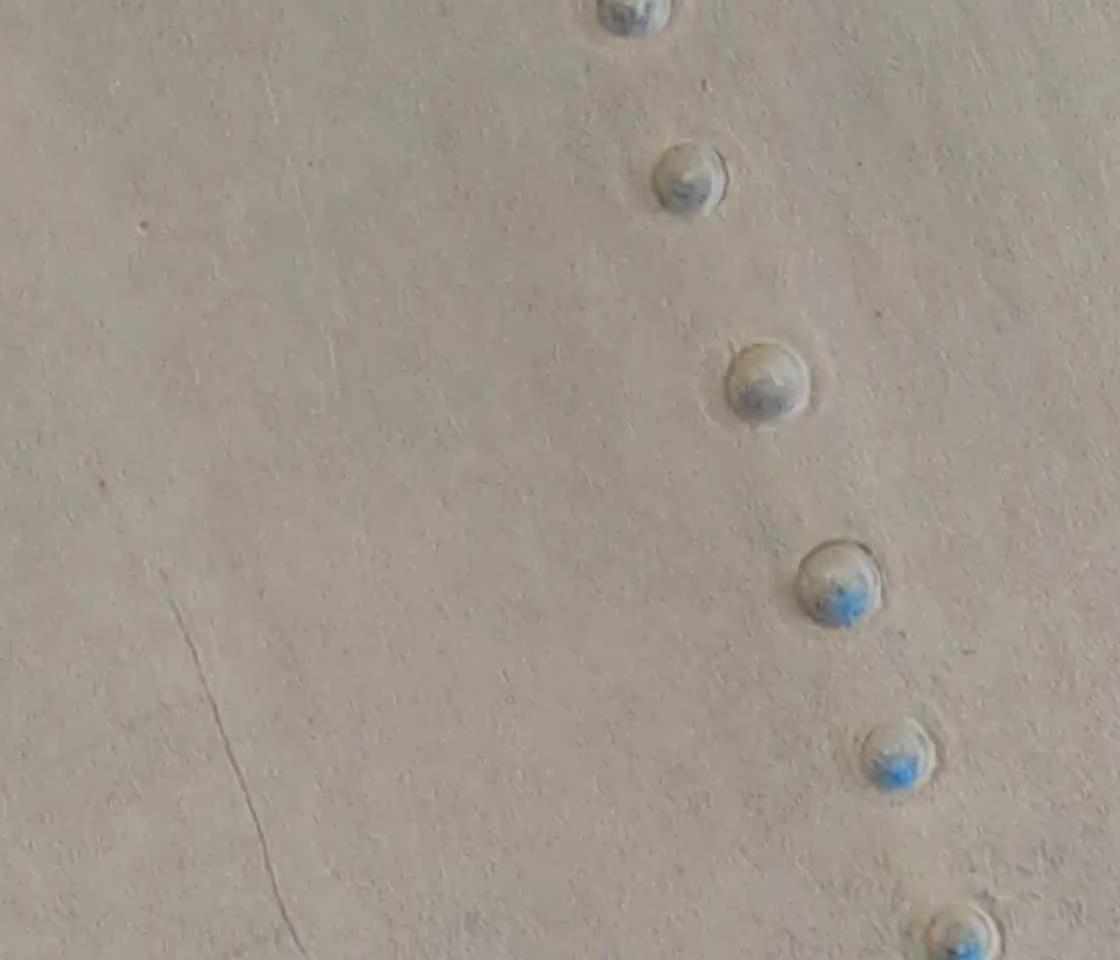scratch: (159, 594, 307, 956)
